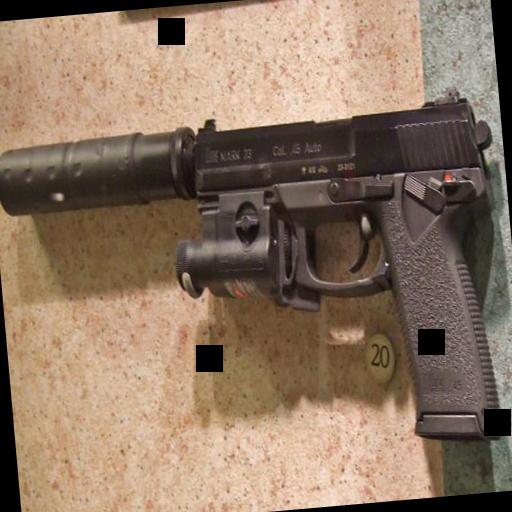Handgun: (0, 82, 512, 484)
